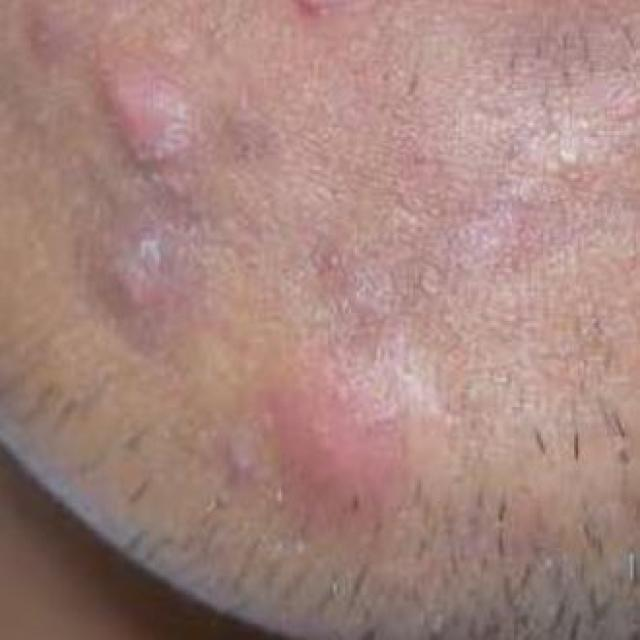nodule: (210, 312, 493, 556), (46, 26, 230, 358)
